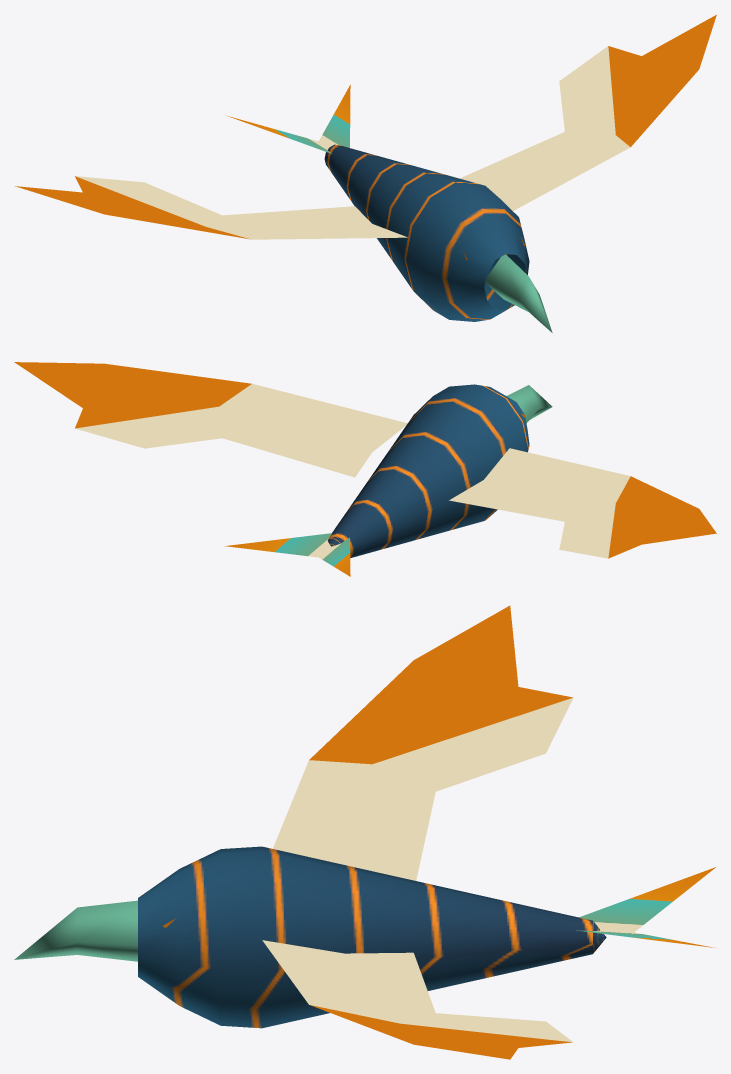
The model's file is bird.obj.
3 views of the same model, one above another, from view 1: azimuth 30°, elevation 25°; view 2: azimuth 150°, elevation 25°; view 3: azimuth 270°, elevation 25° (orthographic). The views are drawn at different scales.
Parts seen in each view (by area): view 1: Bird_Wings, Bird_Body, Bird_Beak, Bird_Tail; view 2: Bird_Wings, Bird_Body, Bird_Tail, Bird_Beak; view 3: Bird_Wings, Bird_Body, Bird_Beak, Bird_Tail.
Part boxes in pixels (left/top/right/bottom): Bird_Wings: left=15, top=14, right=716, bottom=239; Bird_Body: left=324, top=144, right=529, bottom=321; Bird_Beak: left=485, top=254, right=552, bottom=332; Bird_Tail: left=226, top=84, right=350, bottom=153; Bird_Wings: left=14, top=362, right=716, bottom=558; Bird_Body: left=327, top=384, right=529, bottom=557; Bird_Tail: left=224, top=533, right=350, bottom=576; Bird_Beak: left=506, top=385, right=552, bottom=423; Bird_Wings: left=262, top=605, right=573, bottom=1059; Bird_Body: left=138, top=846, right=606, bottom=1028; Bird_Beak: left=14, top=900, right=137, bottom=961; Bird_Tail: left=576, top=867, right=715, bottom=947.
Size of the model in its own units: 3.9 by 0.7613 by 2.55.
Materials: 4 (4 with a texture image).
